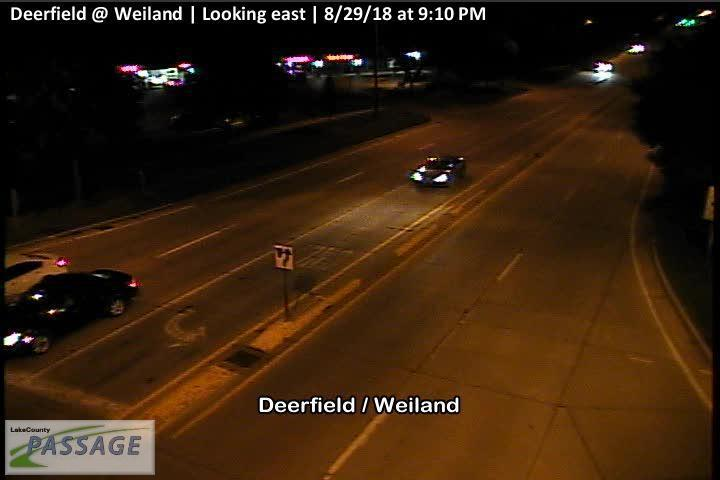Sedan: (1, 267, 141, 359), (408, 153, 465, 187)
